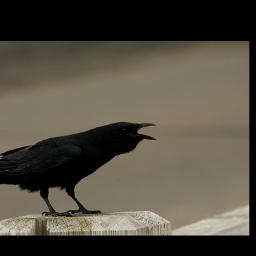Crow: (0, 122, 157, 218)
